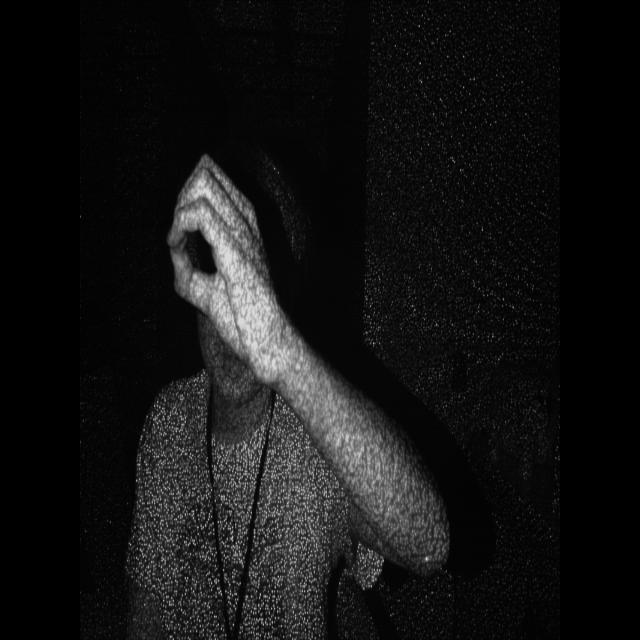O: (159, 127, 265, 345)
